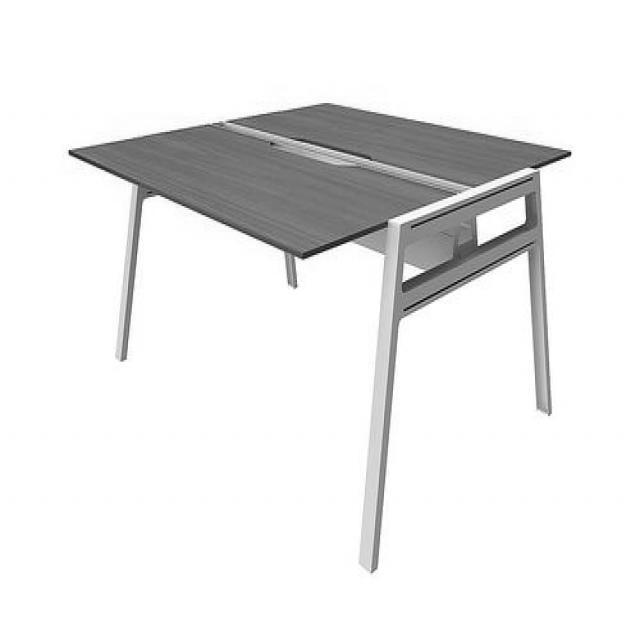table: (68, 91, 570, 574)
